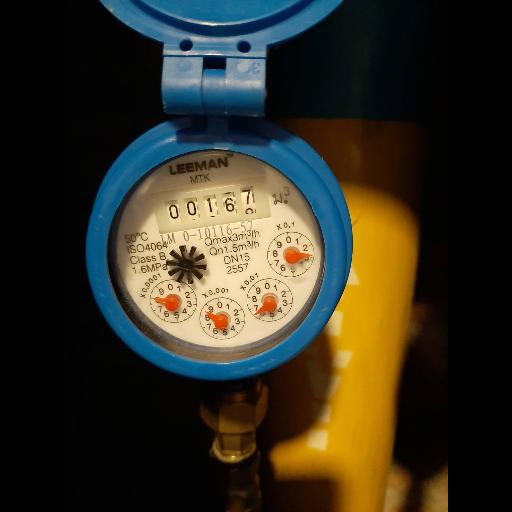0: (165, 200, 182, 225), (184, 197, 201, 222)
1: (203, 194, 220, 219)
6: (221, 191, 238, 216)
7: (240, 186, 257, 216)
border_water_meter_number: (149, 176, 271, 235)
